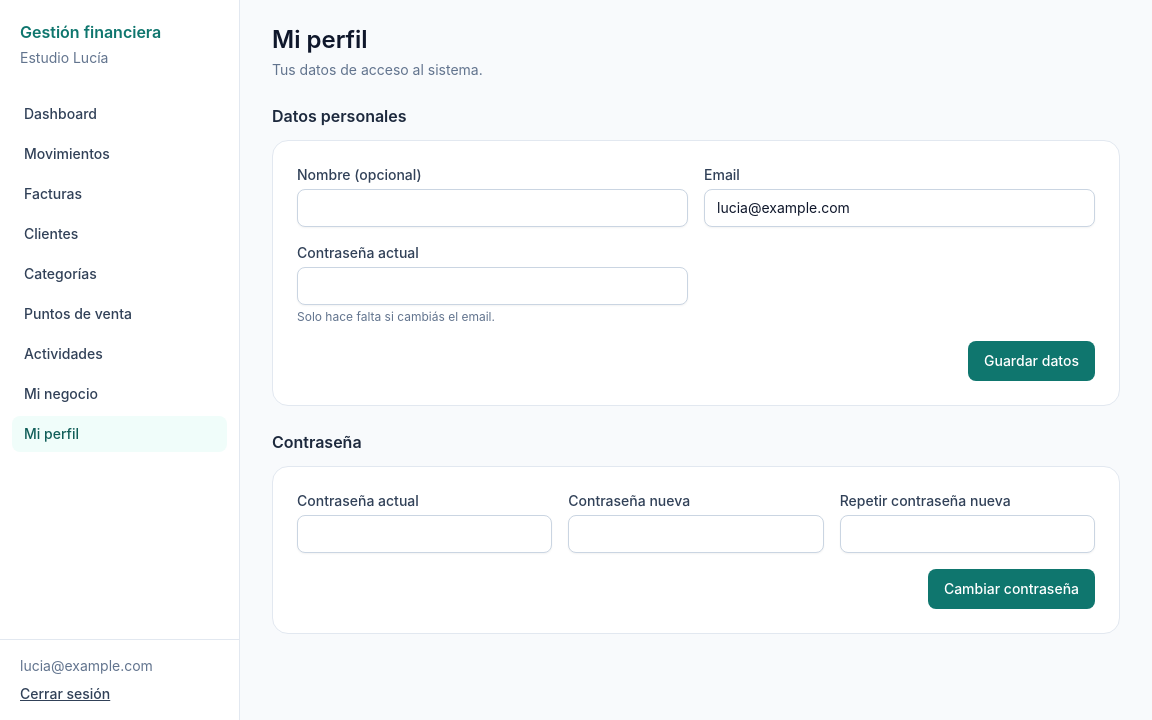
Test case: profile › asks for the current password before sending a new email
The width and height of the screenshot is (1152, 720).
Replace the text in the field labelled "Email" with "lucia.nueva@example.com" at point(900, 208), box [704,189,1095,227]
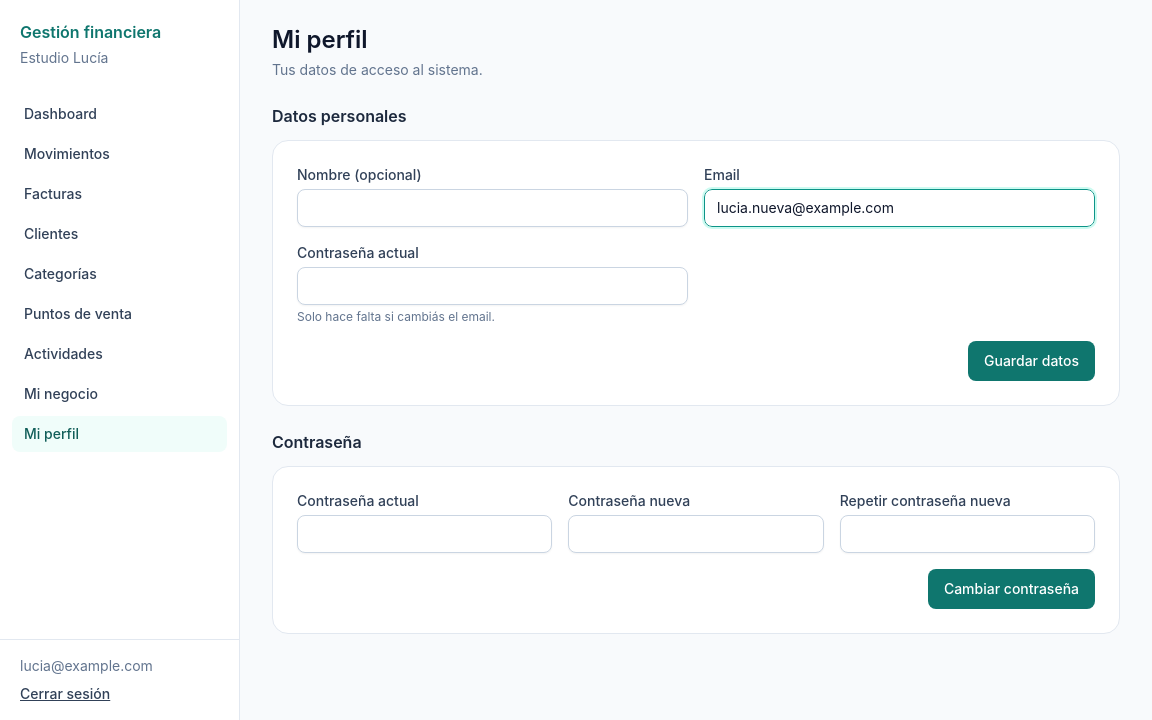
Click the button "Guardar datos" at point(1032, 361), box [968,341,1095,381]
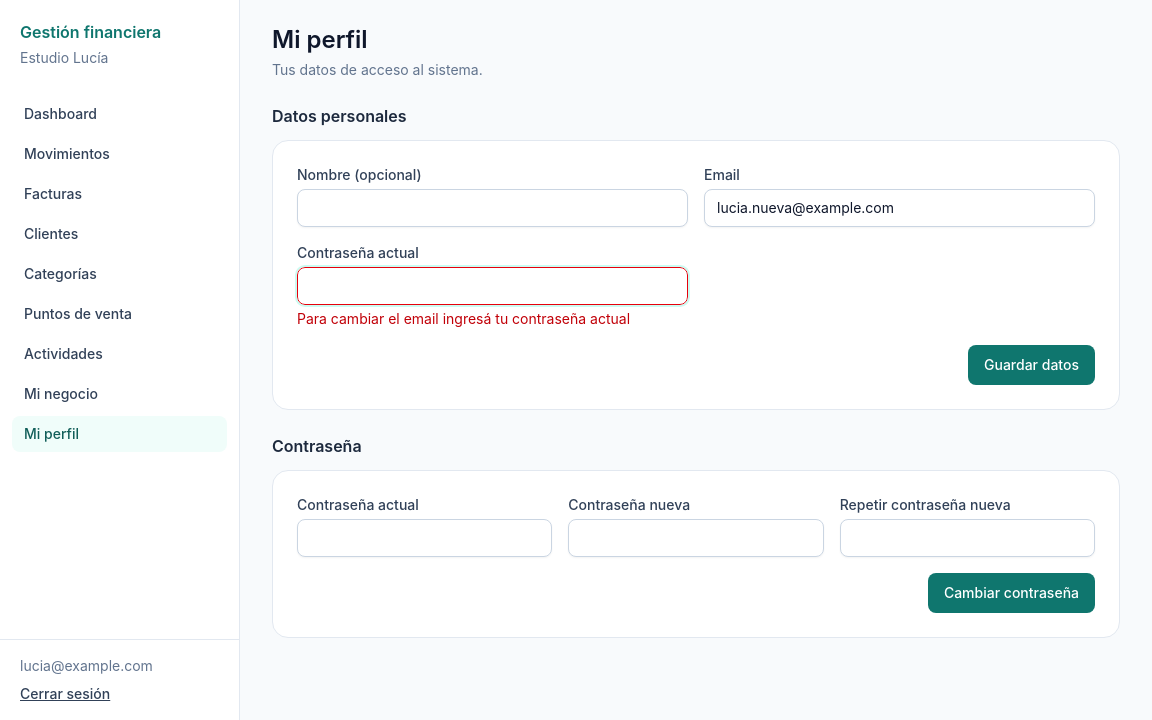
Expected: the text "Para cambiar el email ingresá tu contraseña actual" is shown, [297,309,688,329]
